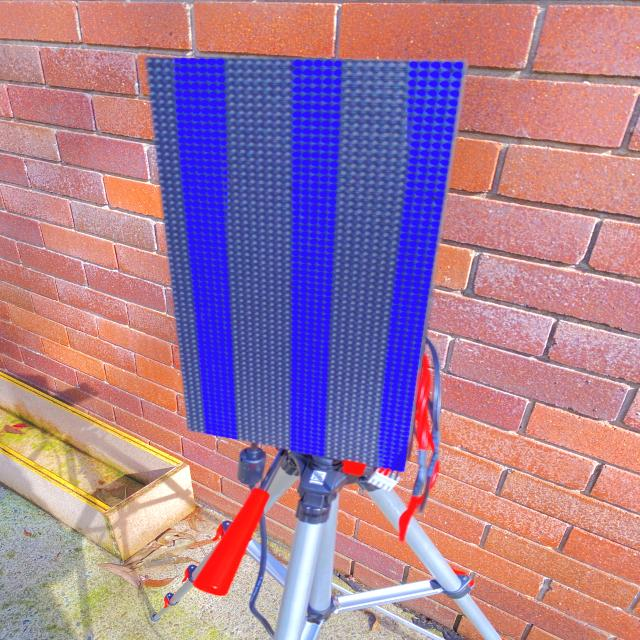matrix: (129, 48, 488, 483)
